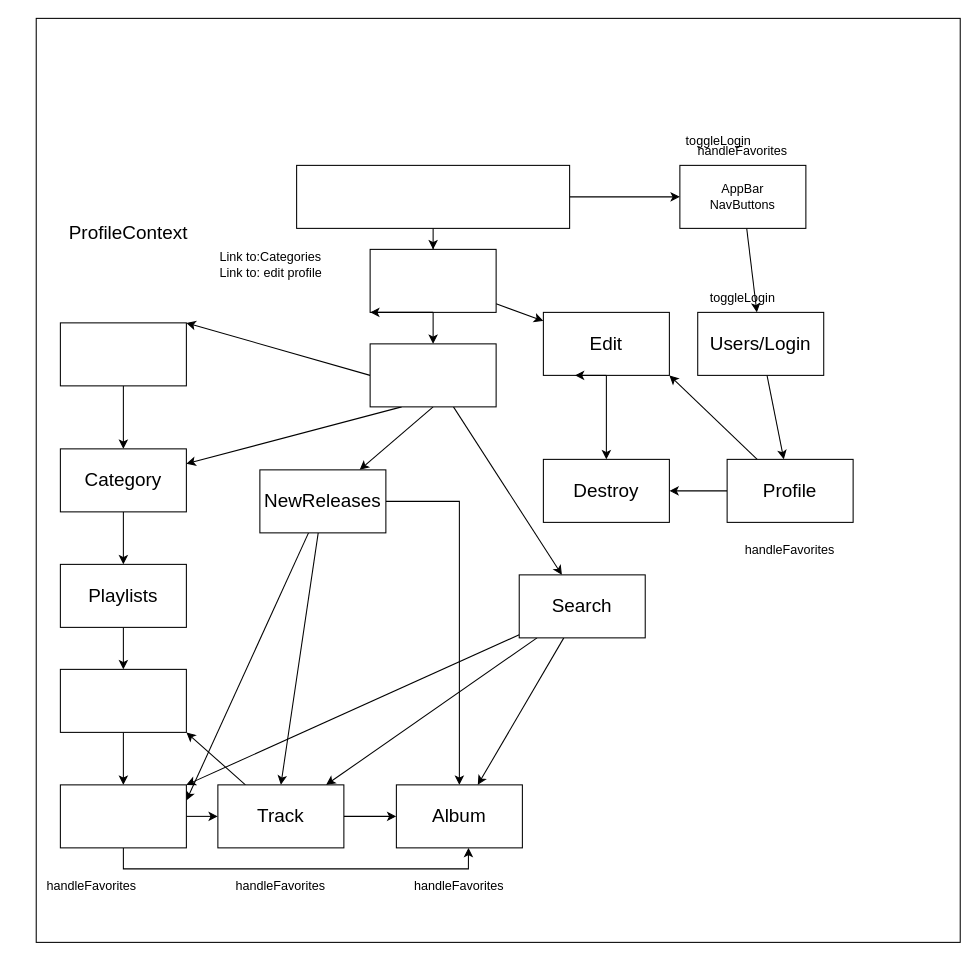
The diagram is 979 pixels wide and 961 high, and some of its shapes have lost their labels. Each missing label, with the centre of its shape:
Artist: (122,816)
Categories: (122,354)
Home: (432,375)
Index: (432,280)
Playlist: (122,700)
Root: (433,196)
